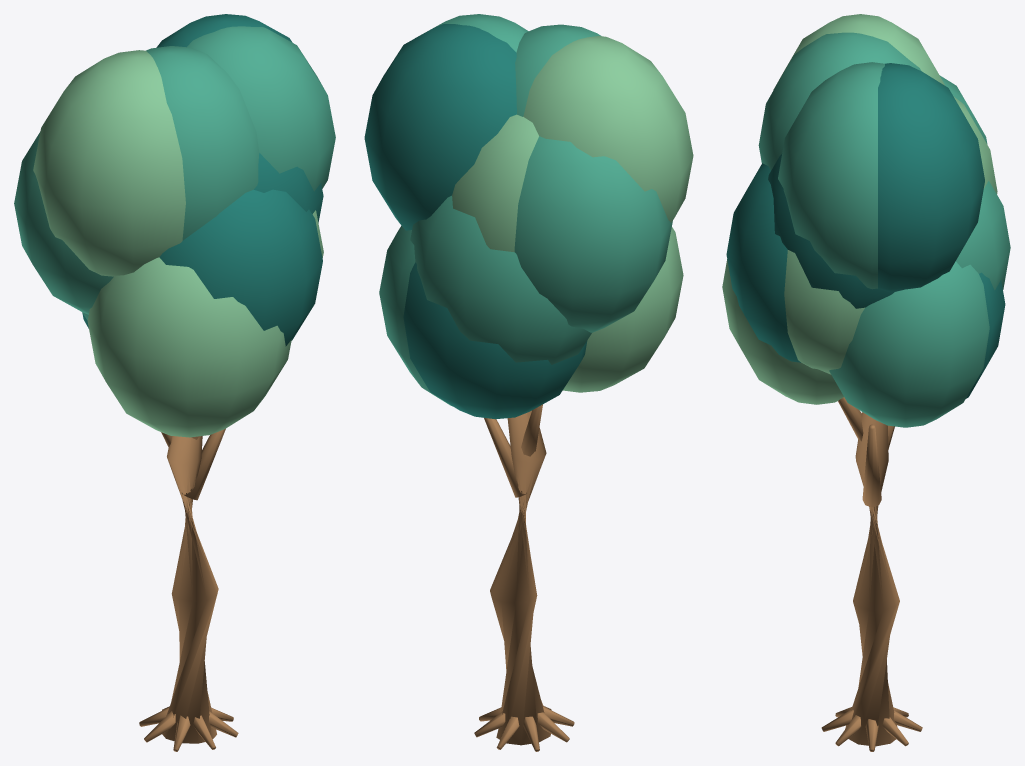
Rendered from tree-slender.glb.
The picture shows the model from 3 angles, left to right: view 1: azimuth 30°, elevation 25°; view 2: azimuth 150°, elevation 25°; view 3: azimuth 270°, elevation 25°; orthographic projection. The views are drawn at different scales.
Parts seen in each view (by area): view 1: GEO-tree-slender; view 2: GEO-tree-slender; view 3: GEO-tree-slender.
Part boxes in pixels (bbox=[...]): GEO-tree-slender: bbox=[14, 14, 335, 751]; GEO-tree-slender: bbox=[364, 14, 693, 751]; GEO-tree-slender: bbox=[722, 14, 1010, 751].
Size of the model in its own units: 1.52 by 3.52 by 1.34.
